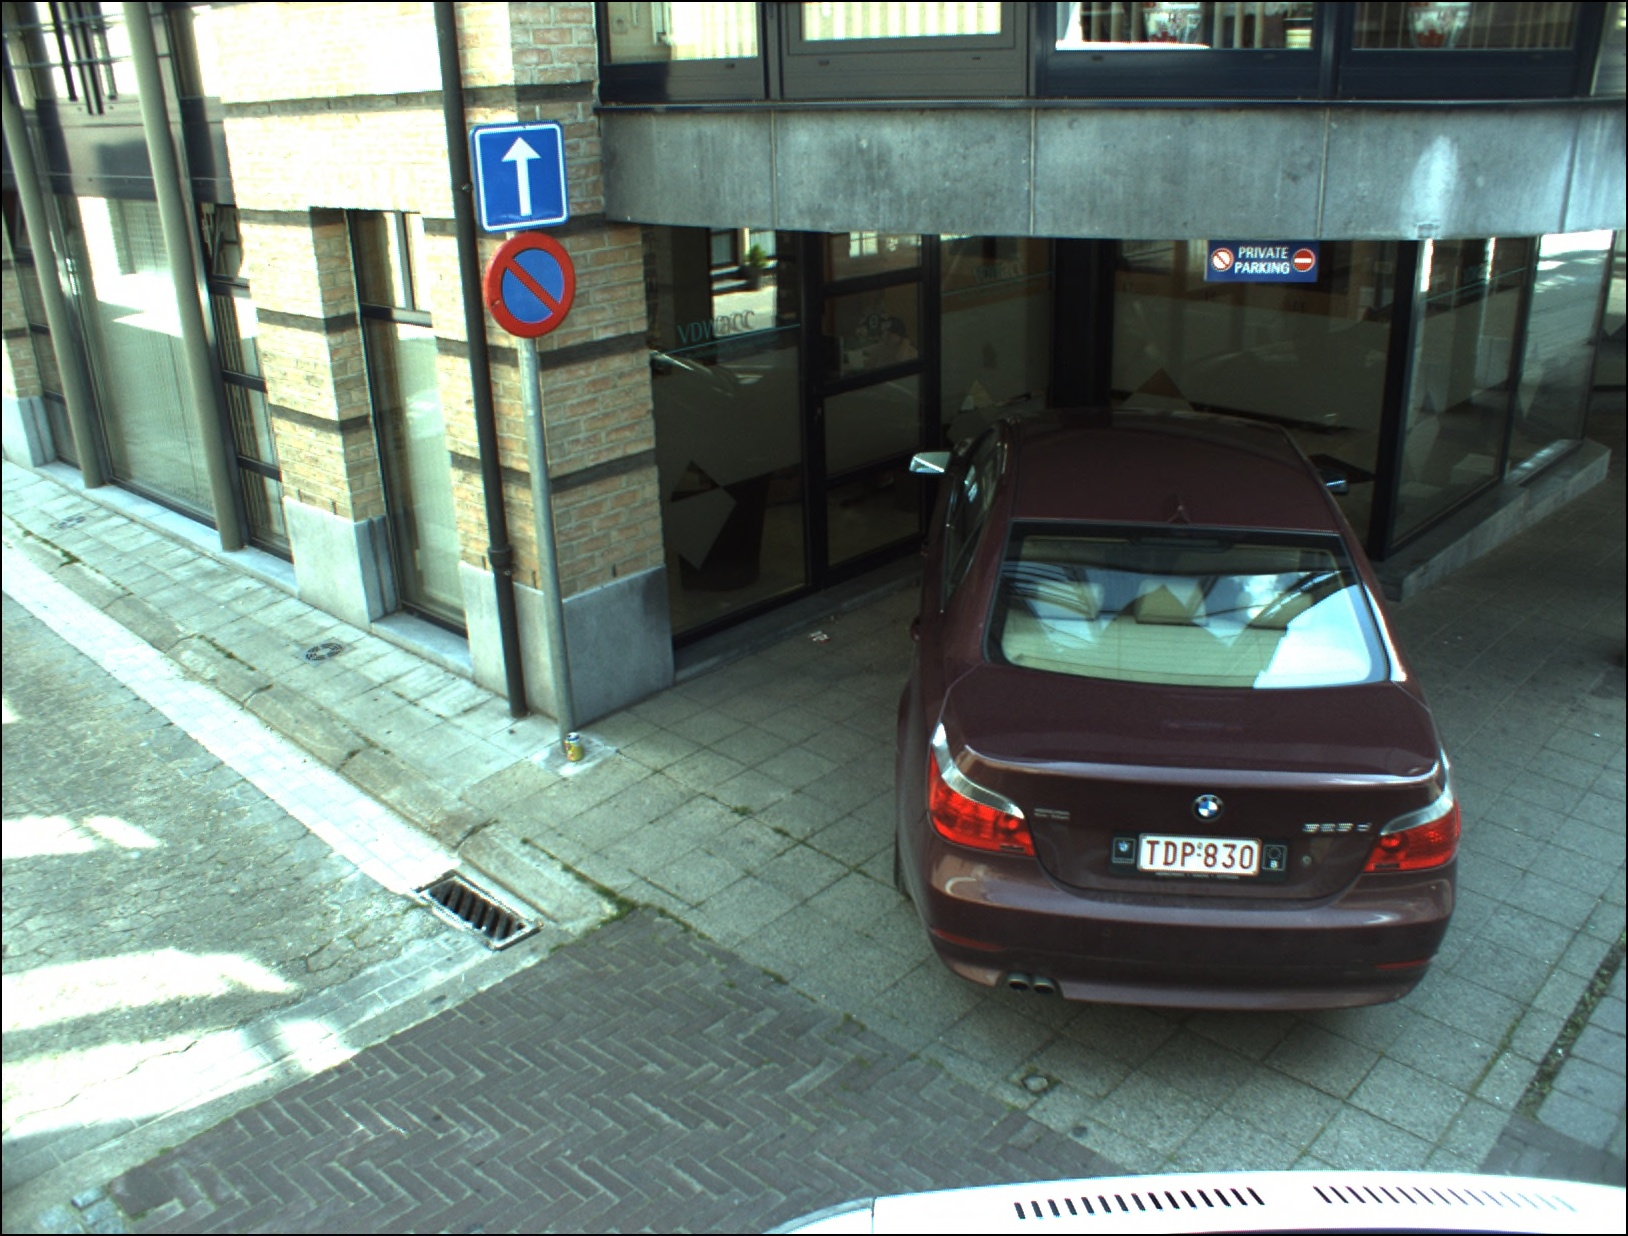noparkig: (480, 235, 574, 336)
oneway: (475, 125, 566, 227)
